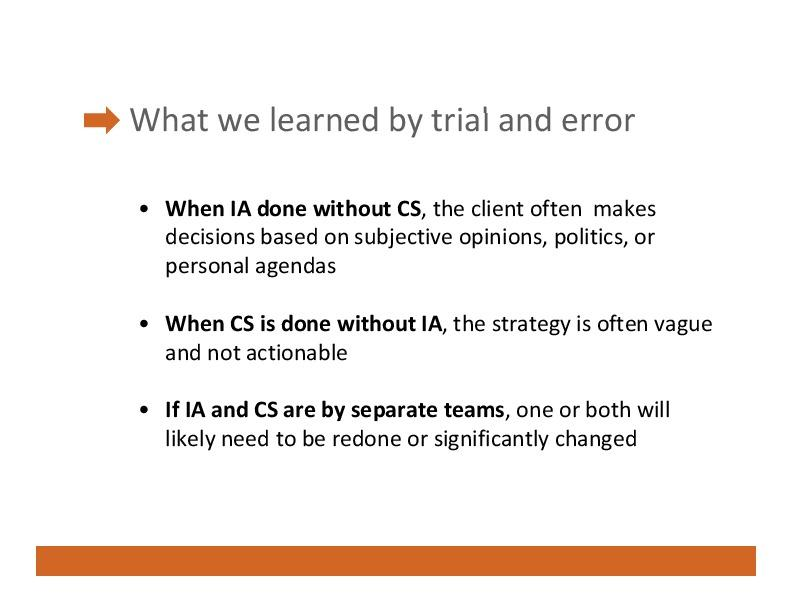paragraph: (157, 192, 732, 475)
title: (125, 93, 648, 147)
